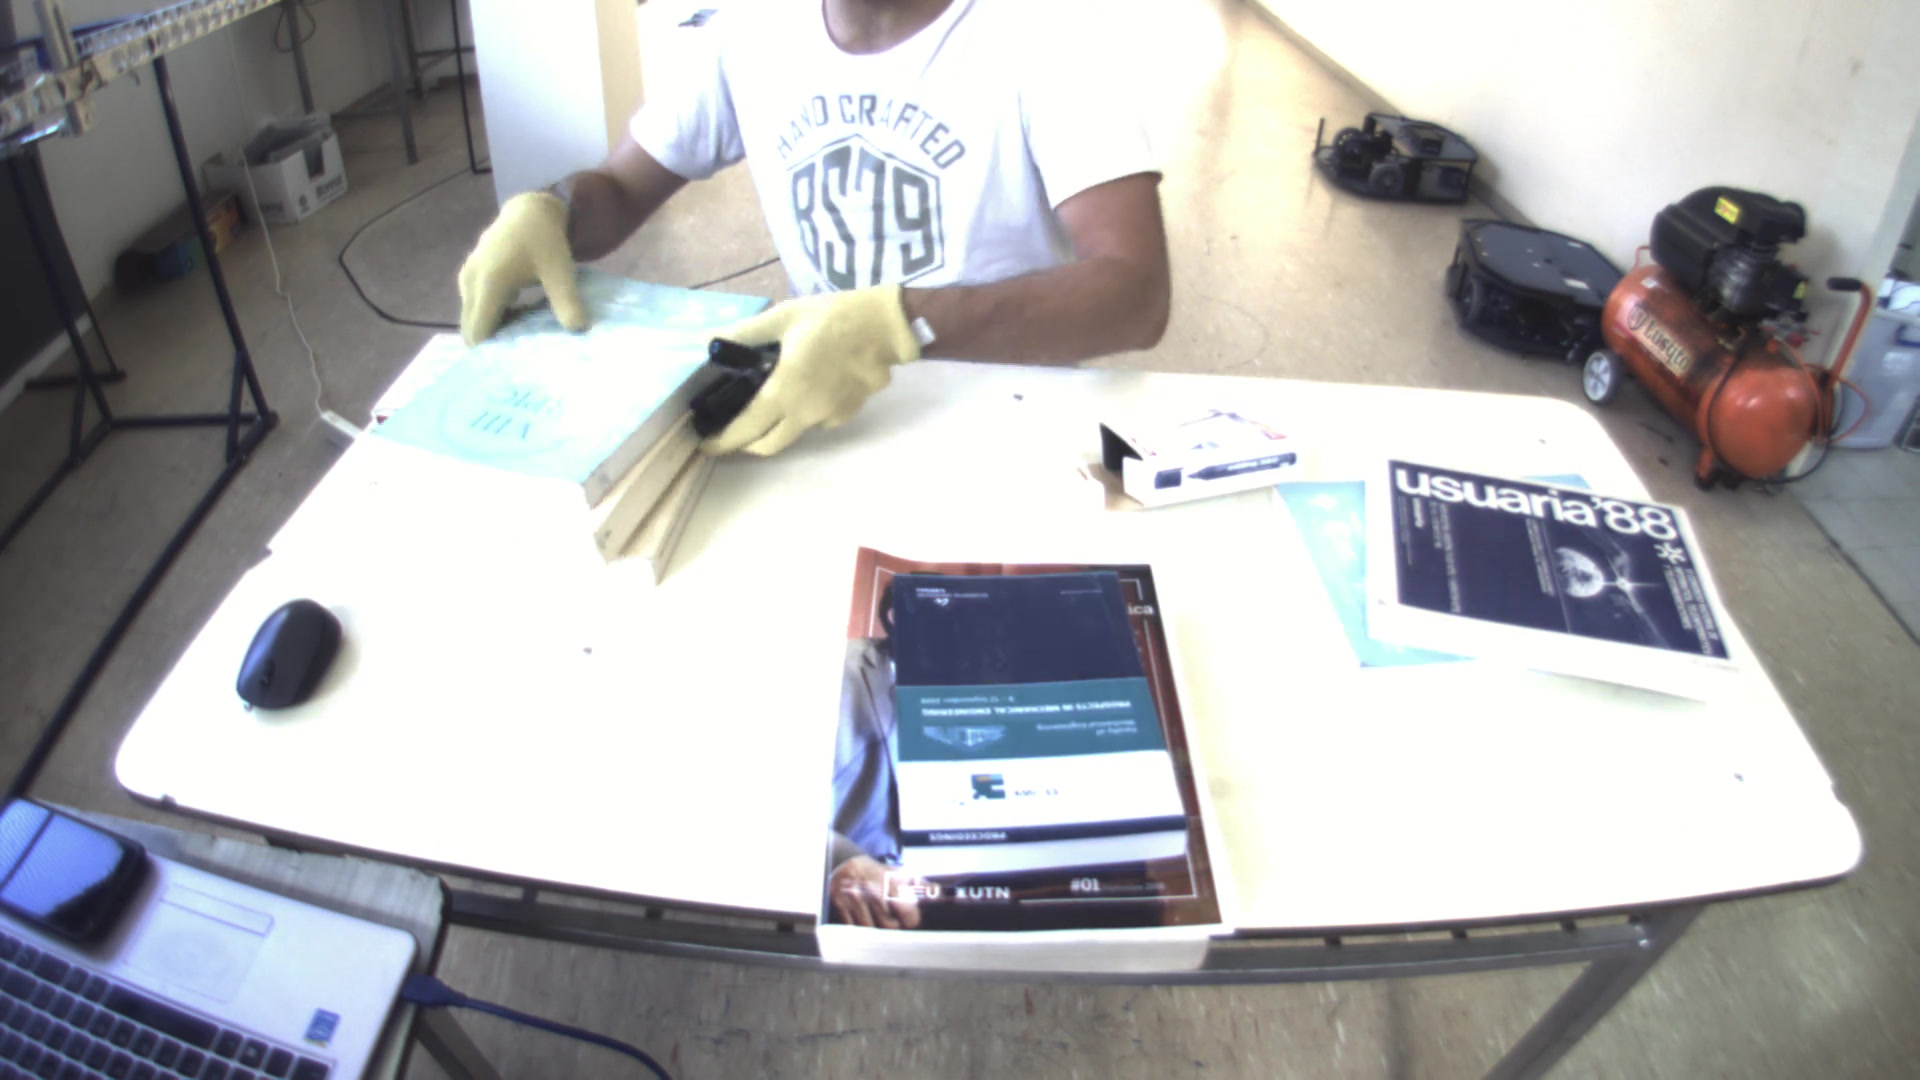hand: (676, 272, 924, 464), (438, 182, 597, 343)
